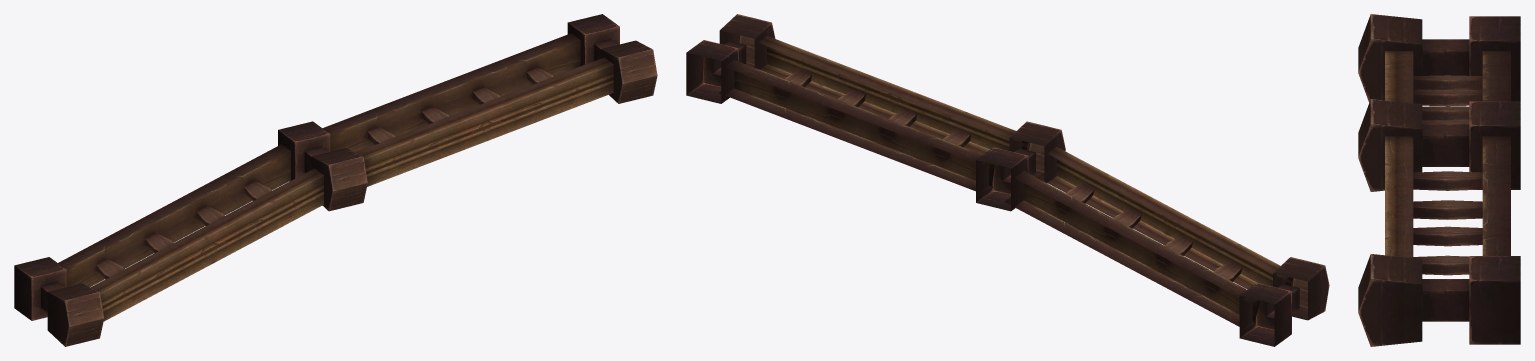
Rendered from huodong_jingsu_545_langan_02b.obj.
The picture shows the model from 3 angles, left to right: view 1: azimuth 30°, elevation 25°; view 2: azimuth 150°, elevation 25°; view 3: azimuth 270°, elevation 25°; orthographic projection. The views are drawn at different scales.
Visible parts, largest first — view 1: huodong_jingsu_545_langan_02; view 2: huodong_jingsu_545_langan_02; view 3: huodong_jingsu_545_langan_02.
Boxes of the visible parts, x1,y1,x2,y2 form: huodong_jingsu_545_langan_02: (14, 14, 657, 346); huodong_jingsu_545_langan_02: (686, 14, 1329, 346); huodong_jingsu_545_langan_02: (1358, 14, 1520, 346).
Bounding box in the file's own units: 649 × 162 × 105.
1 material, 1 textured.
